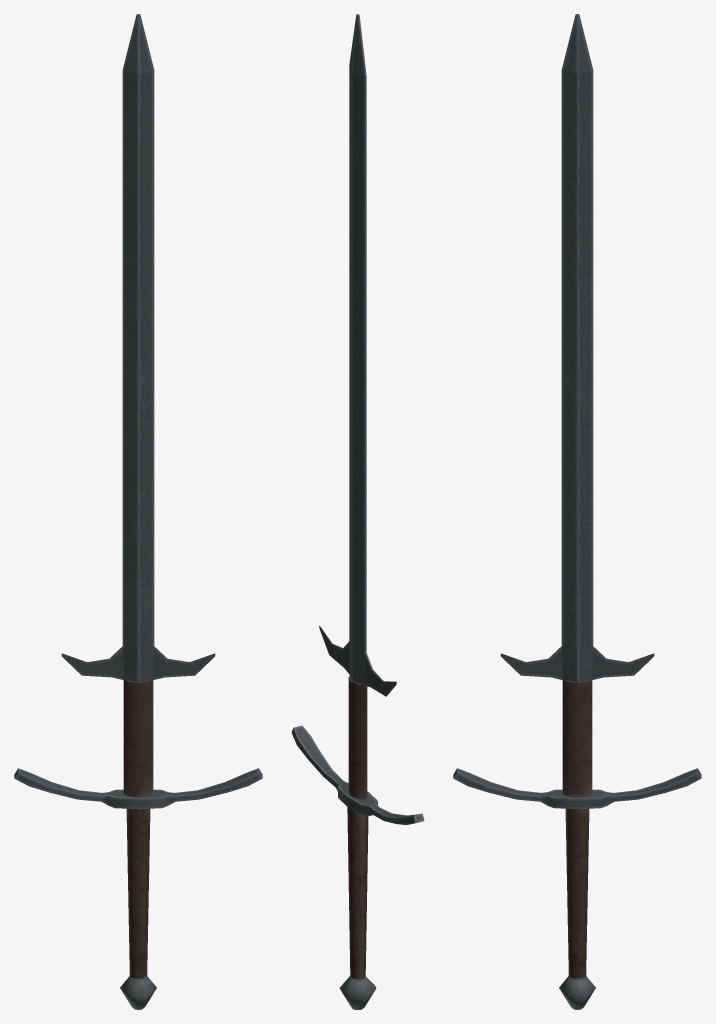
The model's file is zweinhander.fbx.
3 renders of one model, left to right at view 1: azimuth 90°, elevation 25°; view 2: azimuth 210°, elevation 25°; view 3: azimuth 270°, elevation 25°, orthographic.
Visible parts, largest first — view 1: zweinhander; view 2: zweinhander; view 3: zweinhander.
Part boxes in pixels (x1,y1,x2,y2): zweinhander: (14, 14, 262, 1009); zweinhander: (291, 14, 424, 1009); zweinhander: (453, 14, 701, 1009).
Bounding box in the file's own units: 9.39 × 282 × 63.82.
